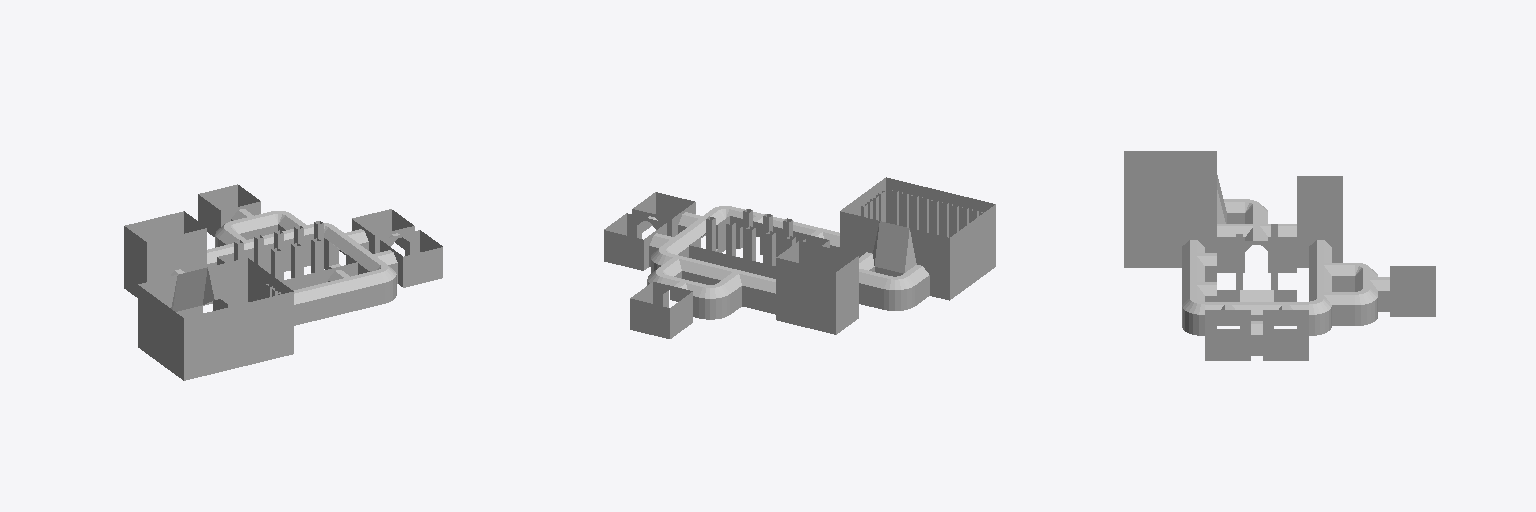
Rendered from spaceStation2.obj.
3 renders of one model, left to right at view 1: azimuth 30°, elevation 25°; view 2: azimuth 150°, elevation 25°; view 3: azimuth 270°, elevation 25°, orthographic.
Parts seen in each view (by area): view 1: Cube; view 2: Cube; view 3: Cube.
Part boxes in pixels (left/top/right/bottom): Cube: left=124, top=184, right=442, bottom=380; Cube: left=604, top=177, right=995, bottom=338; Cube: left=1124, top=151, right=1435, bottom=360.
Bounding box in the file's own units: 30 × 6 × 27.